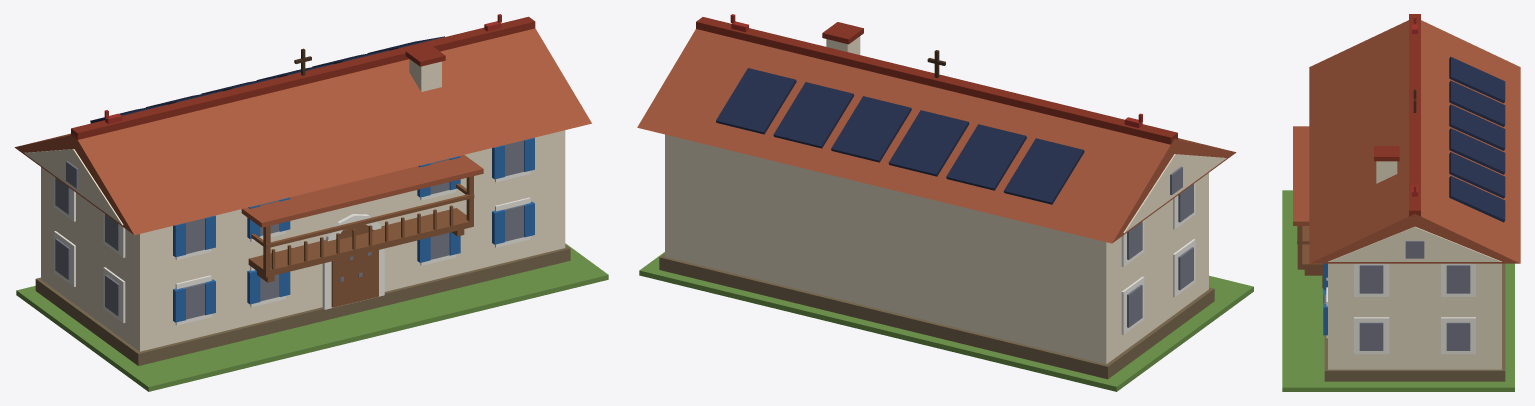
The model's file is house-2x1-2f-andean-a-solar.glb.
The picture shows the model from 3 angles, left to right: view 1: azimuth 30°, elevation 25°; view 2: azimuth 150°, elevation 25°; view 3: azimuth 270°, elevation 25°; orthographic projection. The views are drawn at different scales.
Parts seen in each view (by area): view 1: house-2x1-2f-andean-a-solar; view 2: house-2x1-2f-andean-a-solar; view 3: house-2x1-2f-andean-a-solar.
Boxes of the visible parts, x1,y1,x2,y2 form: house-2x1-2f-andean-a-solar: (14,14,608,391); house-2x1-2f-andean-a-solar: (637,14,1253,391); house-2x1-2f-andean-a-solar: (1282,14,1520,391).
Size of the model in its own units: 2.01 by 0.955 by 1.01.
Materials: 1 (1 with a texture image).
